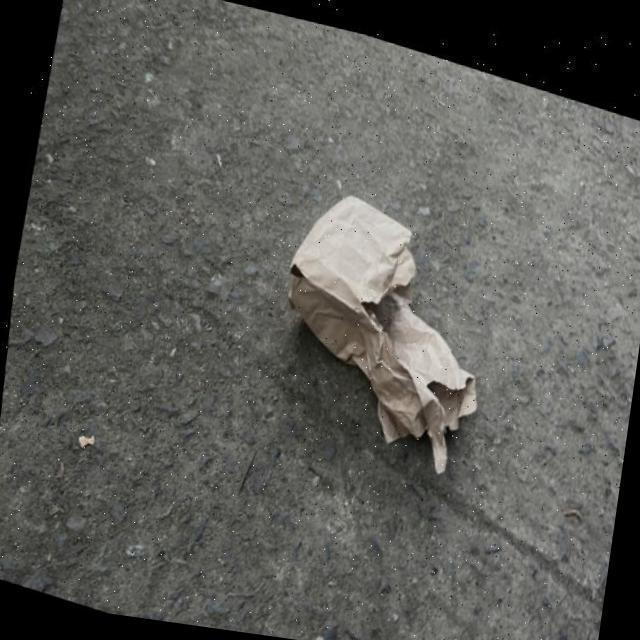Paper_Bag: (252, 167, 514, 480)
